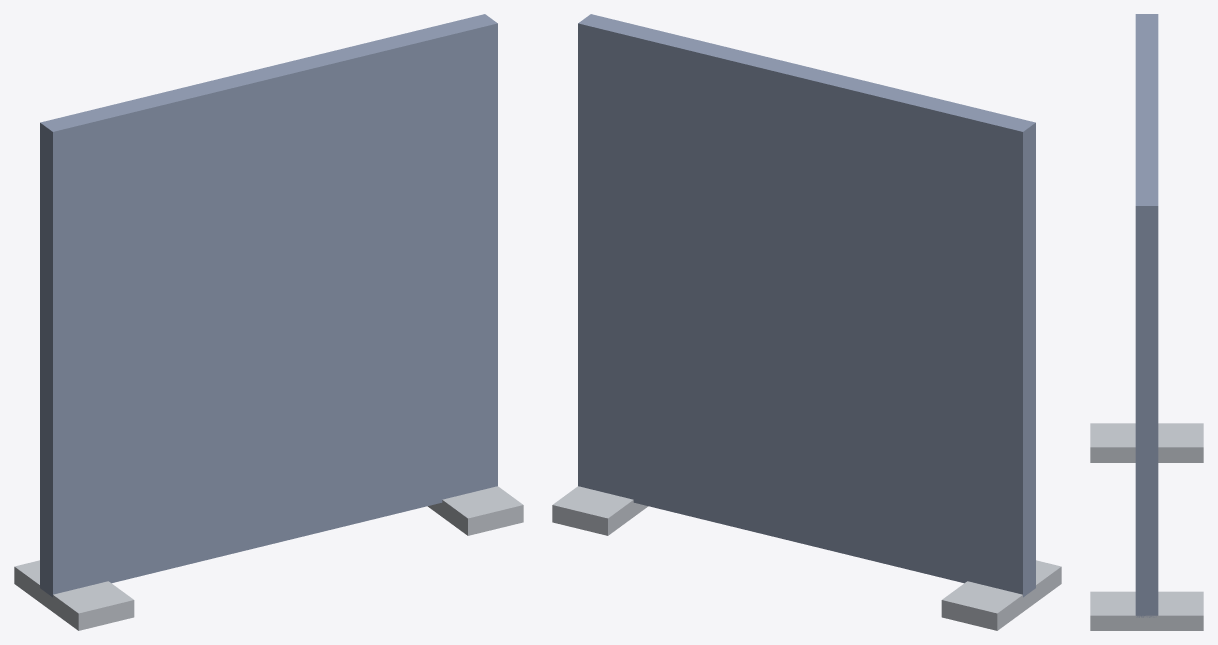
Rendered from partition-panel.glb.
3 views of the same model, side by side, from view 1: azimuth 30°, elevation 25°; view 2: azimuth 150°, elevation 25°; view 3: azimuth 270°, elevation 25° (orthographic). The views are drawn at different scales.
Visible parts, largest first — view 1: partition-panel_Panel, partition-panel_Foot_L, partition-panel_Foot_R; view 2: partition-panel_Panel, partition-panel_Foot_L, partition-panel_Foot_R; view 3: partition-panel_Panel, partition-panel_Foot_R, partition-panel_Foot_L.
Part boxes in pixels (left/top/right/bottom): partition-panel_Panel: left=40, top=14, right=497, bottom=597; partition-panel_Foot_L: left=14, top=560, right=134, bottom=630; partition-panel_Foot_R: left=428, top=486, right=523, bottom=535; partition-panel_Panel: left=578, top=14, right=1035, bottom=597; partition-panel_Foot_L: left=941, top=560, right=1061, bottom=630; partition-panel_Foot_R: left=552, top=486, right=647, bottom=535; partition-panel_Panel: left=1135, top=14, right=1158, bottom=617; partition-panel_Foot_R: left=1090, top=591, right=1203, bottom=630; partition-panel_Foot_L: left=1090, top=423, right=1203, bottom=462.
Bounding box in the file's own units: 1.6 × 1.65 × 0.4.
